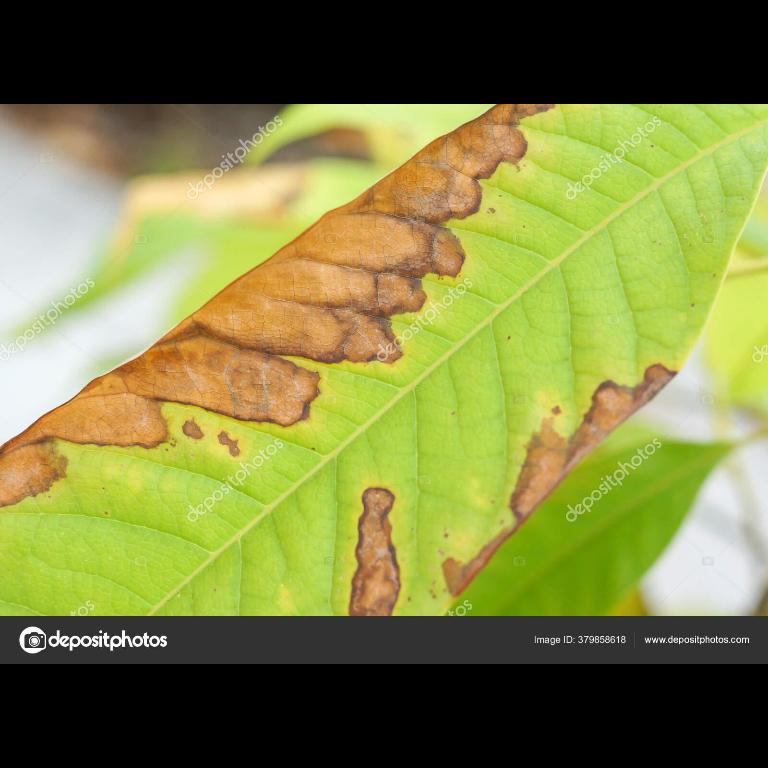blight: (150, 104, 542, 434), (323, 450, 437, 664)
